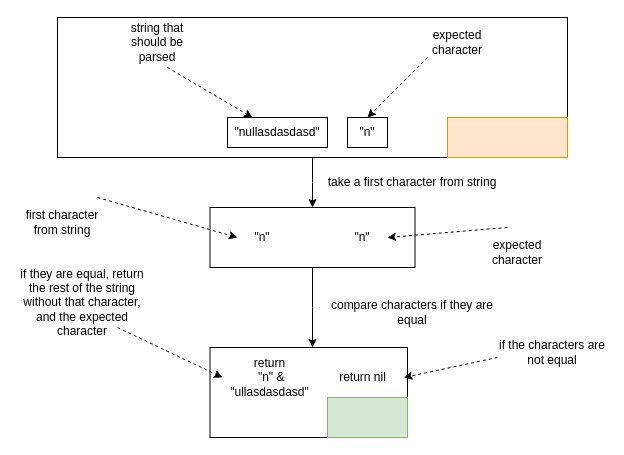
This 624x455 diagram has some shape labels left out. Here are the shapes that lost their labels. From the top down, the box of each, then its label:
(446, 116, 568, 158): INPUT
(326, 396, 408, 438): output
